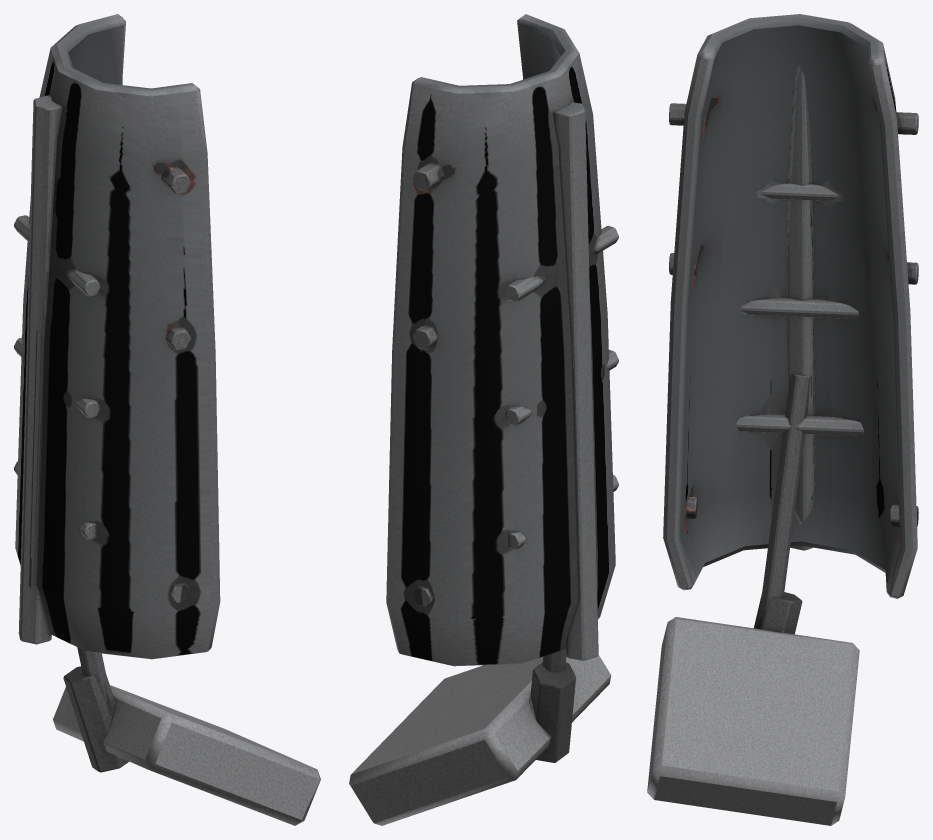
File: gear_dao.gltf
3 renders of one model, left to right at view 1: azimuth 30°, elevation 25°; view 2: azimuth 150°, elevation 25°; view 3: azimuth 270°, elevation 25°, orthographic. The views are drawn at different scales.
Parts seen in each view (by area): view 1: plate__forearm_L; view 2: plate__forearm_L; view 3: plate__forearm_L.
Boxes of the visible parts, bbox=[...] form: plate__forearm_L: bbox=[14, 14, 320, 825]; plate__forearm_L: bbox=[349, 14, 618, 825]; plate__forearm_L: bbox=[647, 14, 918, 825].
Bounding box in the file's own units: 0.129 × 0.4179 × 0.1395.
1 material, 1 textured.
